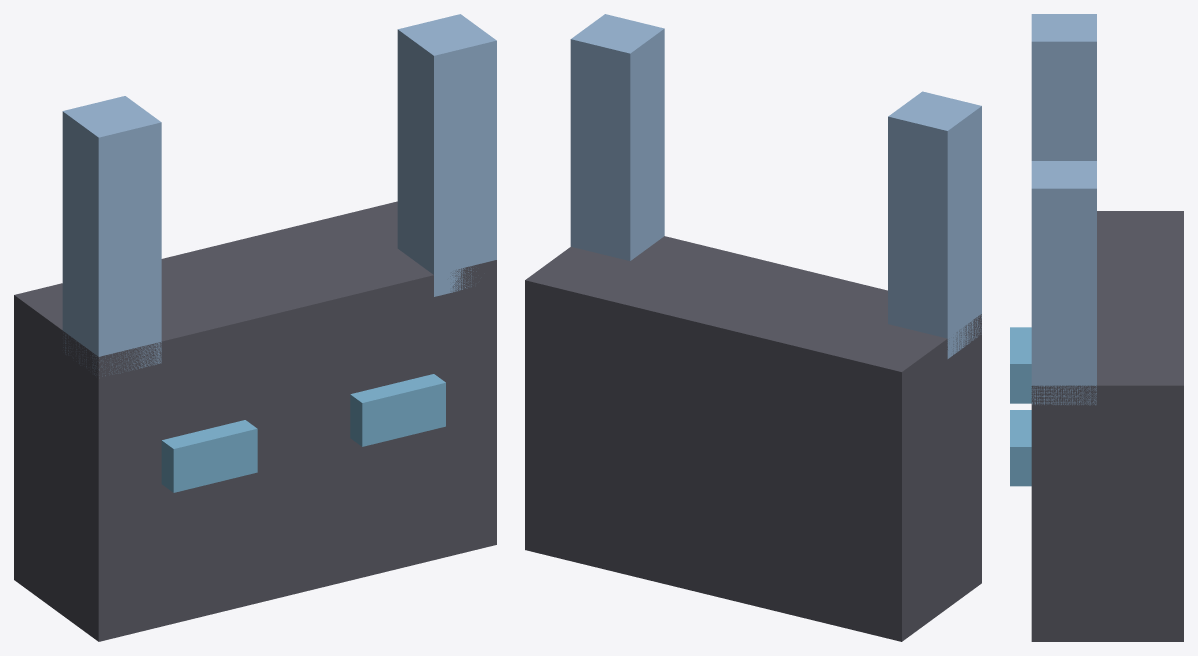
The model's file is mask_t8.glb.
3 views of the same model, side by side, from view 1: azimuth 30°, elevation 25°; view 2: azimuth 150°, elevation 25°; view 3: azimuth 270°, elevation 25° (orthographic). The views are drawn at different scales.
Visible parts, largest first — view 1: geometry_0; view 2: geometry_0; view 3: geometry_0.
Part boxes in pixels (x1,y1,x2,y2): geometry_0: [14, 14, 496, 641]; geometry_0: [525, 14, 981, 641]; geometry_0: [1010, 14, 1183, 641].
Bounding box in the file's own units: 0.38 × 0.46 × 0.16.
